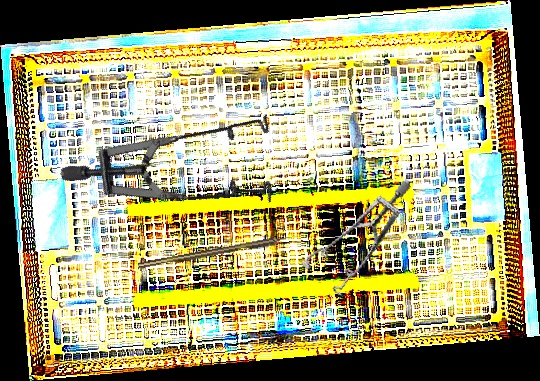Hook Surgical: (137, 233, 299, 270)
Speculum: (55, 39, 307, 272), (287, 177, 434, 305)
